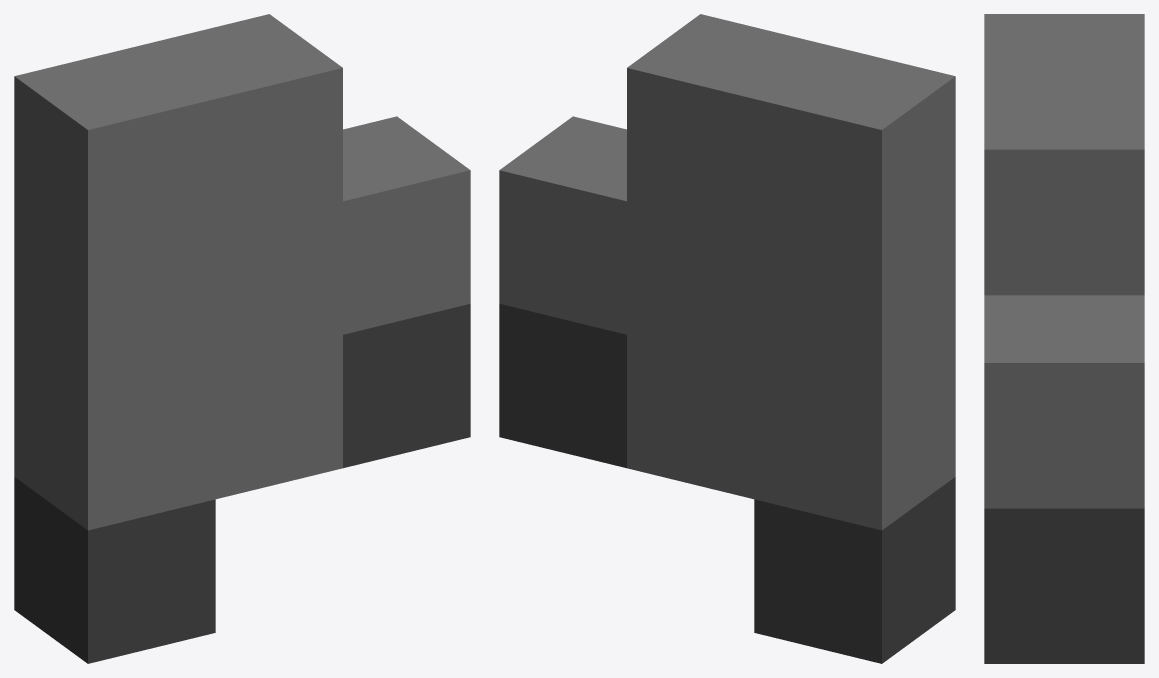
The model's file is seal-3.obj.
The picture shows the model from 3 angles, left to right: view 1: azimuth 30°, elevation 25°; view 2: azimuth 150°, elevation 25°; view 3: azimuth 270°, elevation 25°; orthographic projection. The views are drawn at different scales.
Size of the model in its own units: 0.3 by 0.4 by 0.1.
1 material, 1 textured.
